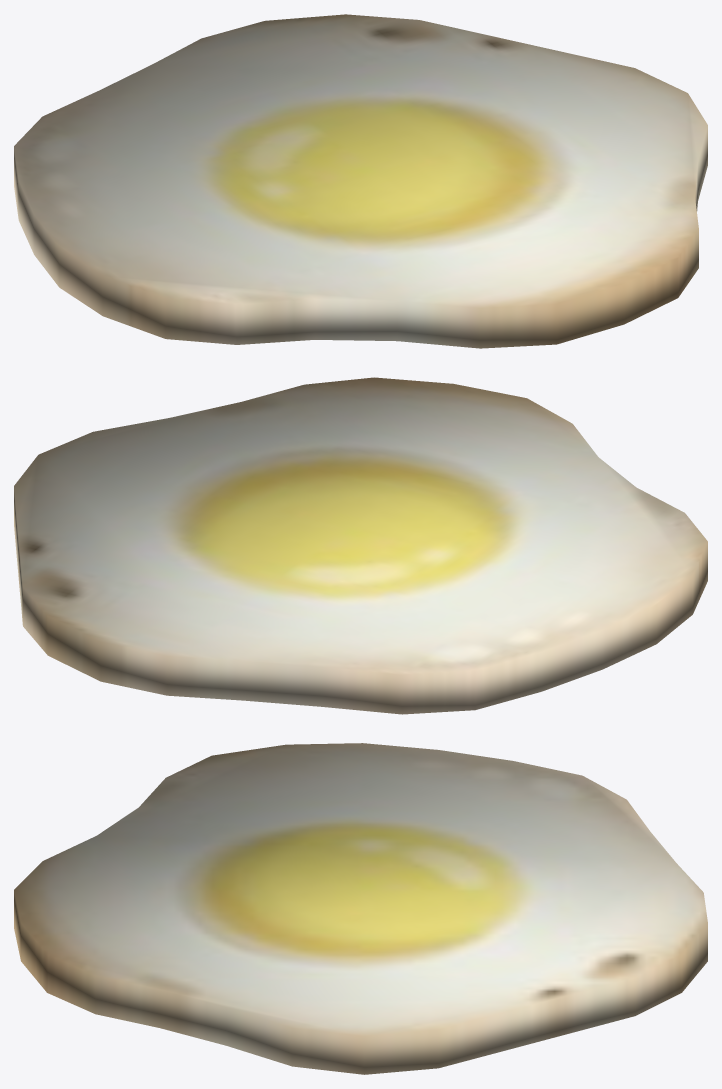
Rendered from EggCooked.glb.
The picture shows the model from 3 angles, top to bottom: view 1: azimuth 30°, elevation 25°; view 2: azimuth 150°, elevation 25°; view 3: azimuth 270°, elevation 25°; orthographic projection. The views are drawn at different scales.
Parts seen in each view (by area): view 1: EggCooked; view 2: EggCooked; view 3: EggCooked.
Boxes of the visible parts, bbox=[...] form: EggCooked: bbox=[14, 14, 707, 348]; EggCooked: bbox=[14, 377, 707, 714]; EggCooked: bbox=[14, 743, 707, 1074].
Bounding box in the file's own units: 0.4908 × 0.03 × 0.4908.
Materials: 1 (1 with a texture image).
